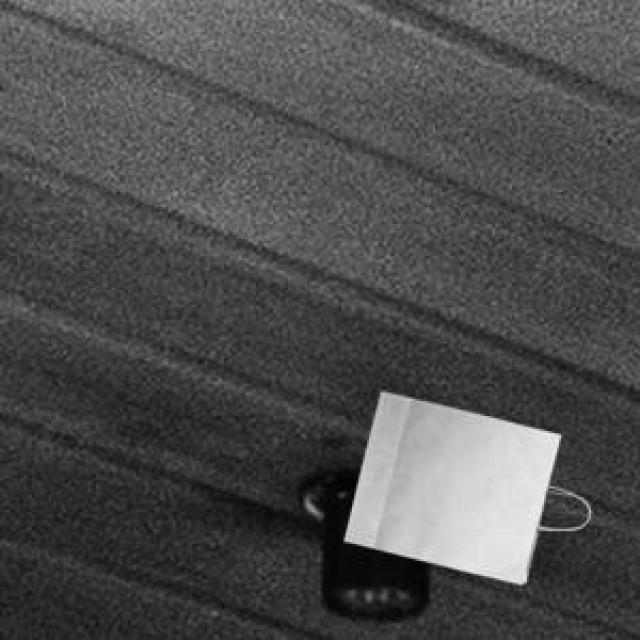paper: (341, 388, 557, 580)
